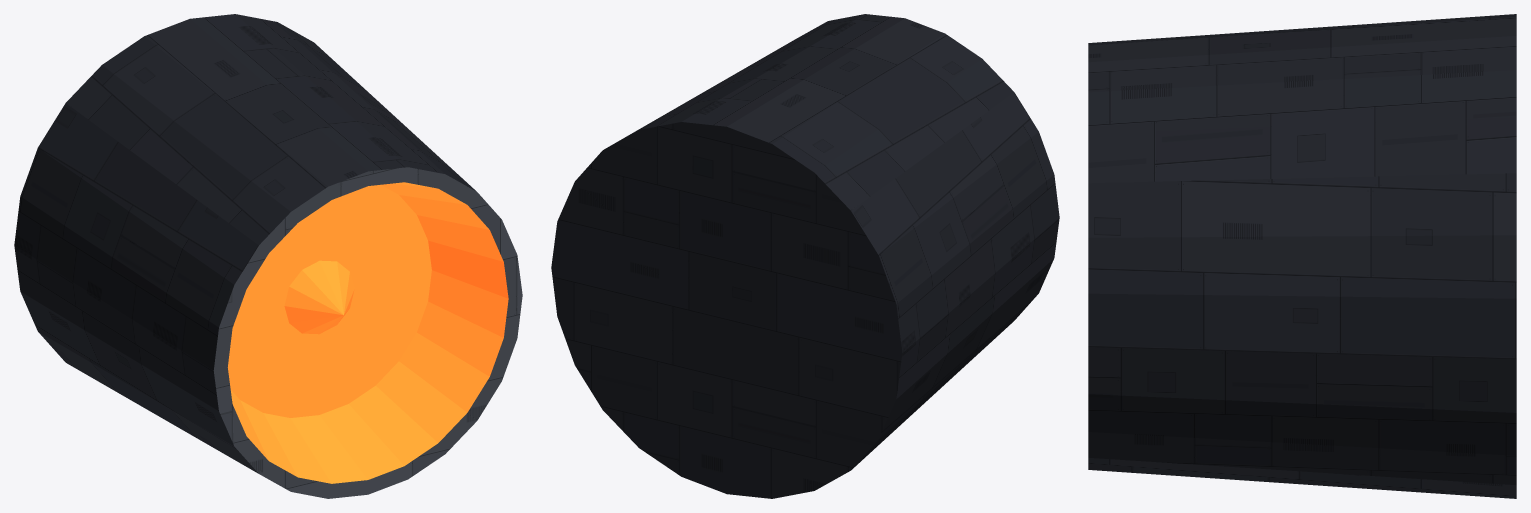
The model's file is juggernaut_thruster_keel.glb.
3 views of the same model, side by side, from view 1: azimuth 30°, elevation 25°; view 2: azimuth 150°, elevation 25°; view 3: azimuth 270°, elevation 25° (orthographic). The views are drawn at different scales.
Parts seen in each view (by area): view 1: Juggernaut_ThrusterKeel; view 2: Juggernaut_ThrusterKeel; view 3: Juggernaut_ThrusterKeel.
Part boxes in pixels (<box>): Juggernaut_ThrusterKeel: <box>14,14,522,498</box>; Juggernaut_ThrusterKeel: <box>551,14,1059,498</box>; Juggernaut_ThrusterKeel: <box>1088,14,1516,498</box>.
Size of the model in its own units: 75 by 75 by 66.
Materials: 3 (2 with a texture image).
